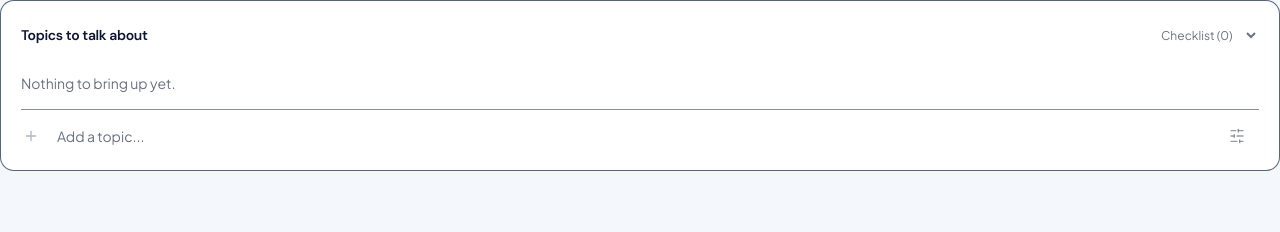
topics panel › disables repeated submissions until acknowledgement
This screenshot has width=1280, height=232.
Step 1. Type "Pending topic" into the field → (634,136), box [57,114,1211,158]
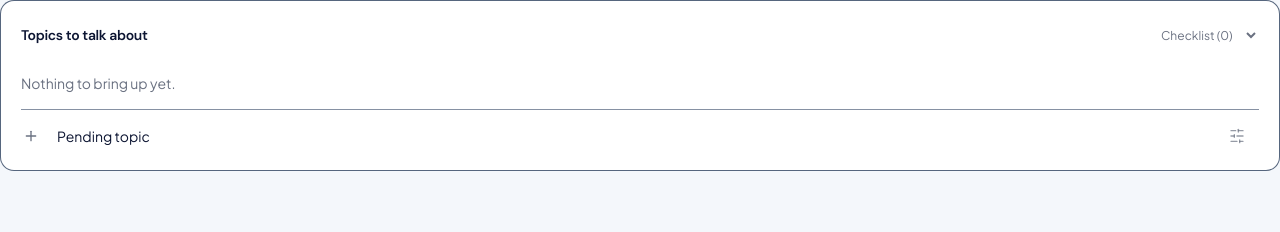
Step 2. Click the button named "Add topic" → (31,136), box [9,114,53,158]
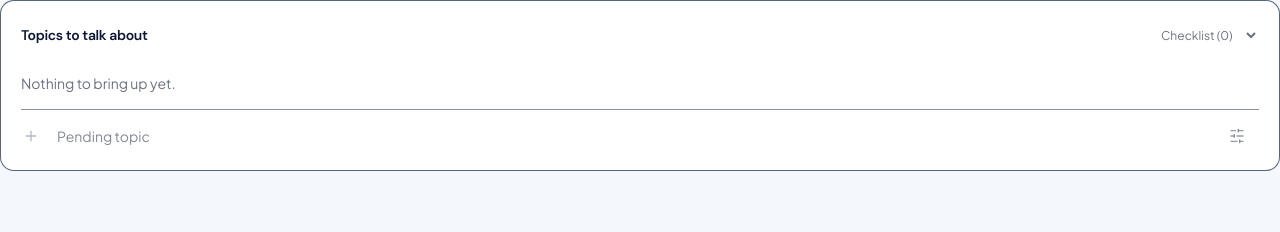
Expected: the text "Topic added." is not shown
Result: the button named "Saving..." is disabled at [9,114,53,158]
Step 3. Submit the form, box [21,109,1259,158]
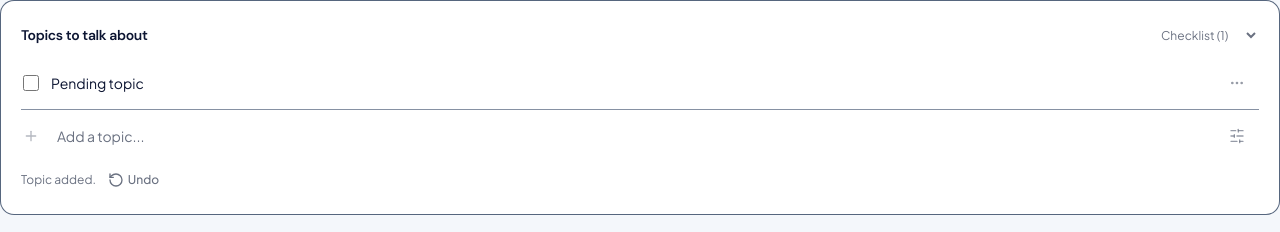
Result: the text "Topic added." is shown at [21,172,96,188]
